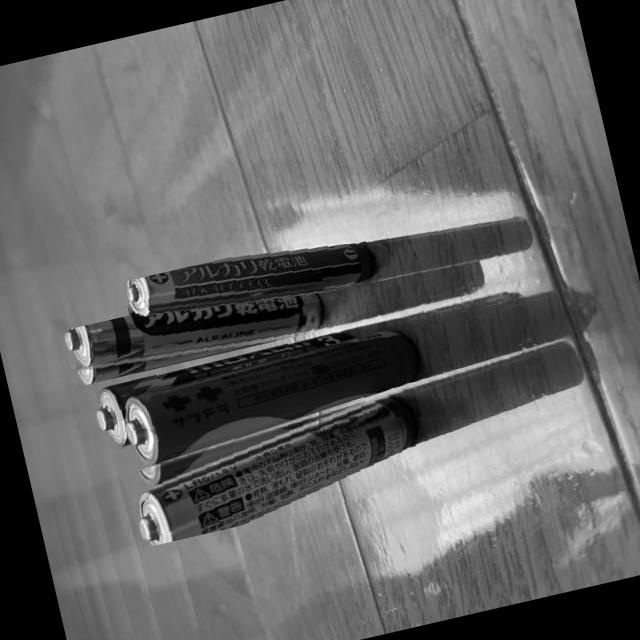Hazard: (108, 319, 434, 483), (119, 388, 431, 548), (79, 324, 368, 458), (56, 271, 333, 392), (120, 224, 384, 338)
